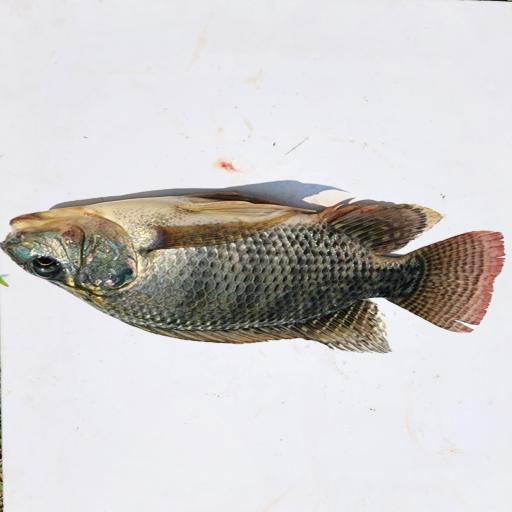Tilapia: (0, 193, 506, 354)
